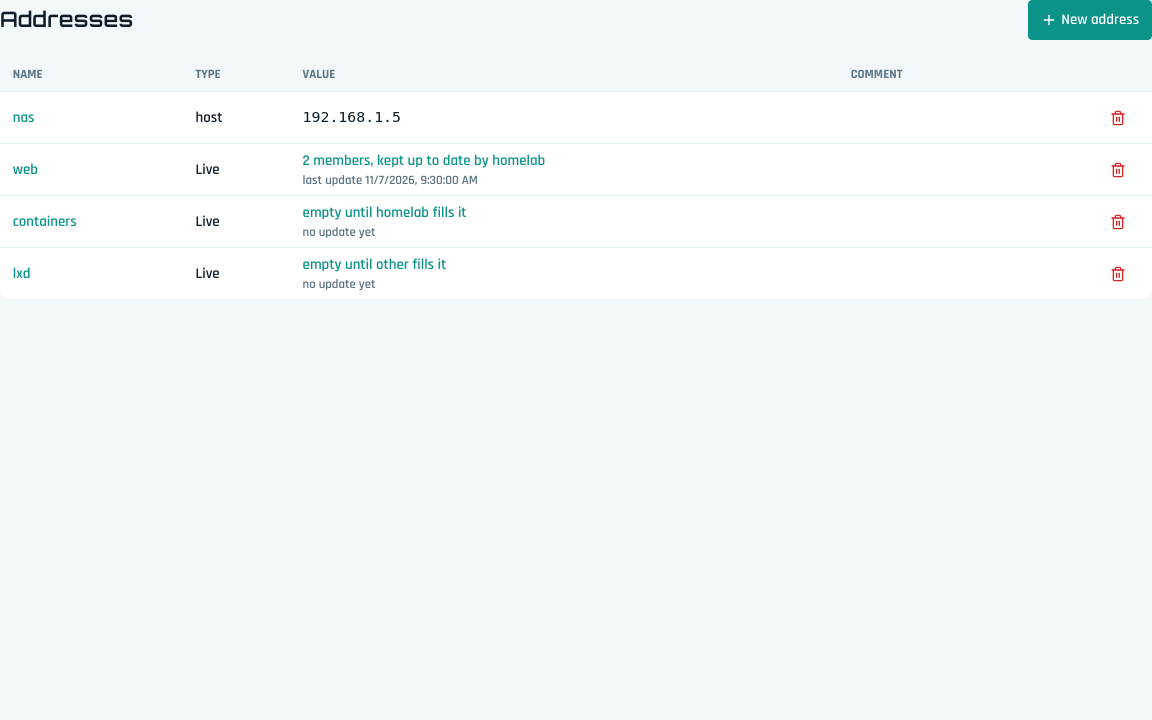
Scenario: Addresses: live objects › the empty object opens a drawer that repeats the plugin will fill it
Click the button "empty until homelab fills it": [385, 213] box [303, 202, 467, 224]
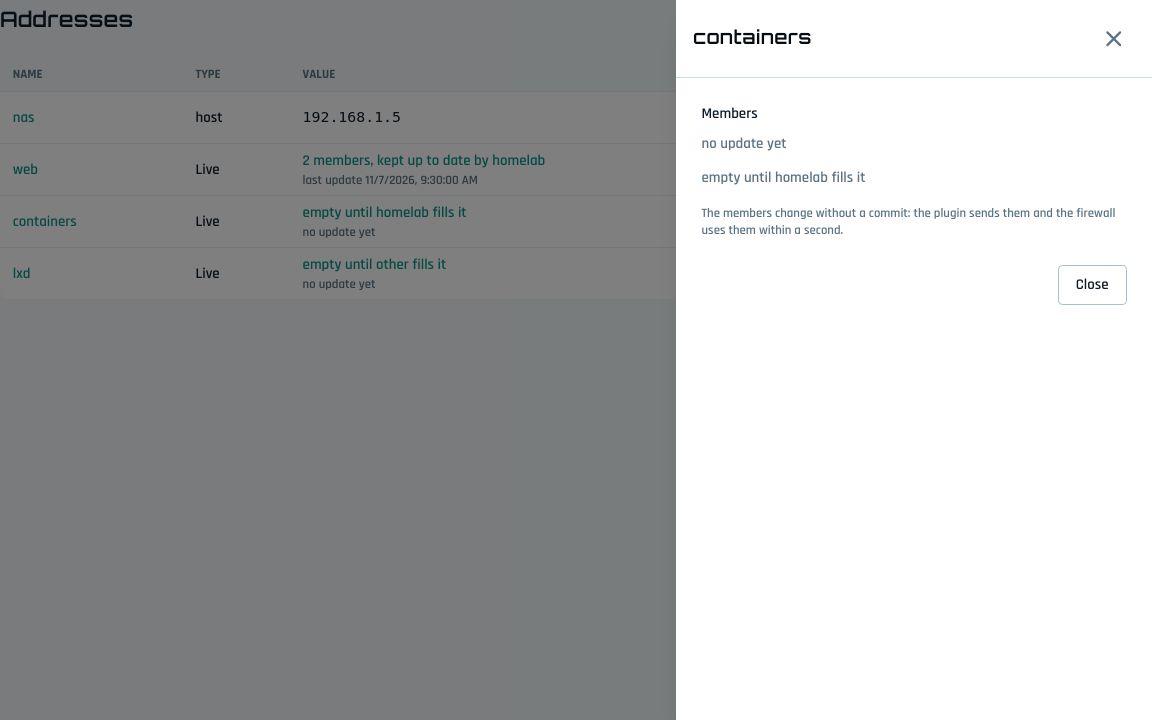
Expected: the text "empty until homelab fills it" is shown, [702, 168, 866, 187]
Expected: the text "The members change without a commit: the plugin sends them and the firewall uses them within a second." is shown, [702, 205, 1115, 238]
